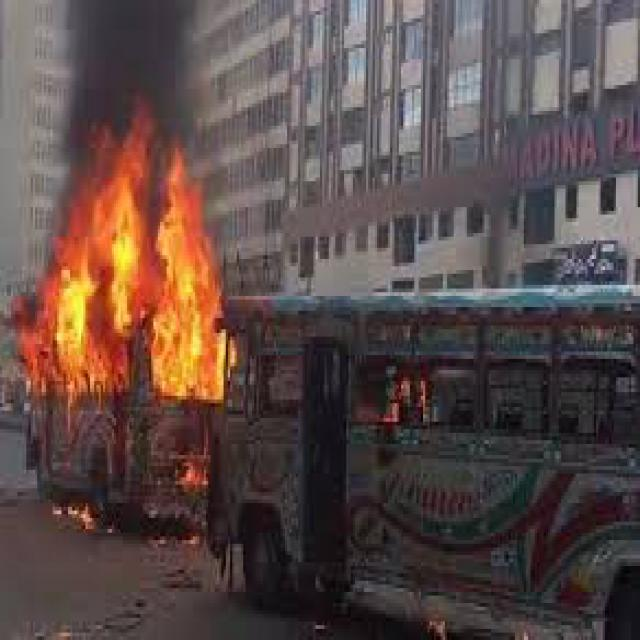fire: (21, 116, 249, 438)
